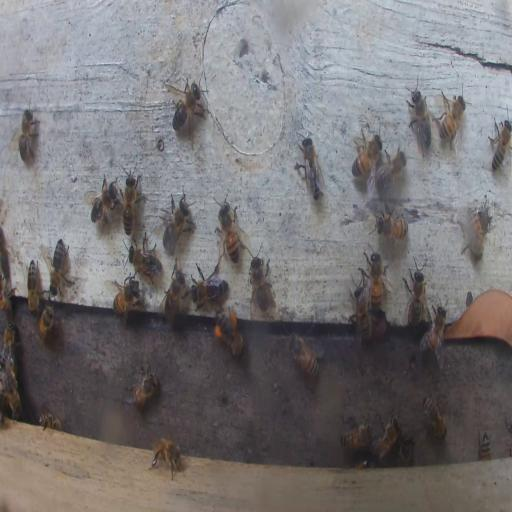bee: (168, 76, 207, 142), (406, 79, 434, 155), (161, 190, 193, 250), (86, 173, 120, 227), (298, 136, 326, 201), (214, 304, 244, 361), (123, 362, 160, 408), (45, 237, 72, 298), (403, 257, 426, 327), (350, 130, 382, 180), (218, 195, 241, 264), (162, 263, 186, 327), (440, 89, 466, 148), (288, 334, 323, 377), (248, 249, 272, 310), (192, 265, 226, 308), (420, 303, 447, 357), (16, 104, 40, 164), (151, 436, 183, 480), (128, 238, 161, 278), (122, 168, 141, 237), (370, 418, 400, 461), (489, 116, 512, 172), (350, 285, 372, 343), (112, 276, 142, 318), (422, 394, 448, 441), (467, 205, 489, 260), (377, 147, 405, 190), (375, 210, 409, 244), (339, 421, 372, 454), (2, 364, 22, 417), (27, 260, 39, 316), (371, 254, 382, 312), (37, 304, 54, 341), (0, 276, 15, 317), (2, 323, 16, 365), (396, 438, 415, 465), (37, 412, 63, 430), (0, 224, 8, 280), (479, 430, 492, 461)
